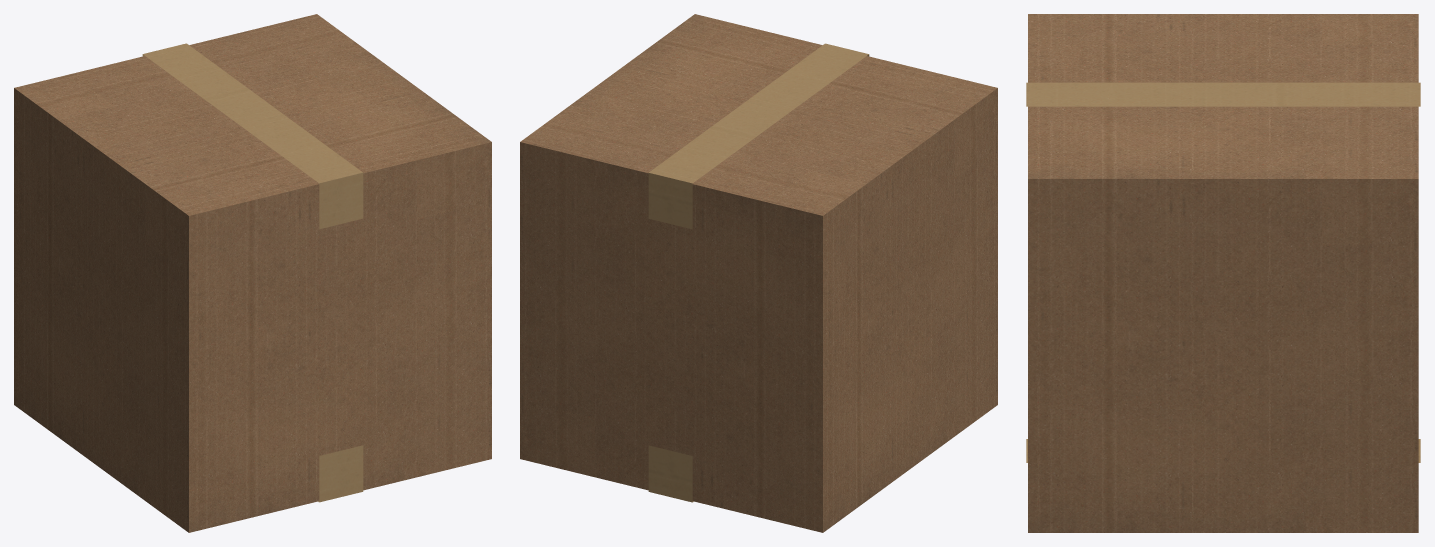
The picture shows the model from 3 angles, left to right: view 1: azimuth 30°, elevation 25°; view 2: azimuth 150°, elevation 25°; view 3: azimuth 270°, elevation 25°; orthographic projection. The views are drawn at different scales.
Parts seen in each view (by area): view 1: pCube1; view 2: pCube1; view 3: pCube1.
Boxes of the visible parts, bbox=[...] form: pCube1: bbox=[14, 14, 491, 532]; pCube1: bbox=[520, 14, 997, 532]; pCube1: bbox=[1026, 14, 1420, 532].
Bounding box in the file's own units: 30 × 30.2 × 30.29.
